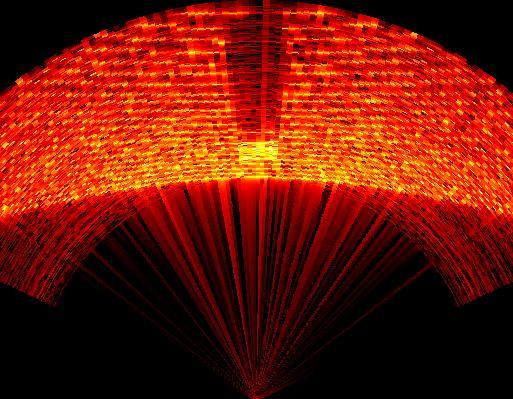box_crate: (219, 12, 292, 169)
